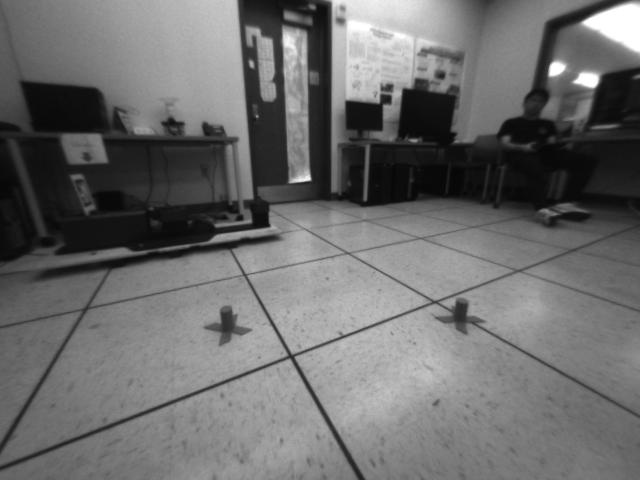X: (434, 296, 488, 336), (202, 304, 253, 346)
